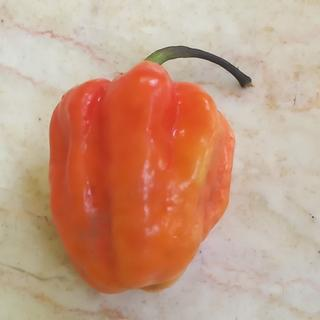Grade-A: (35, 54, 237, 294)
